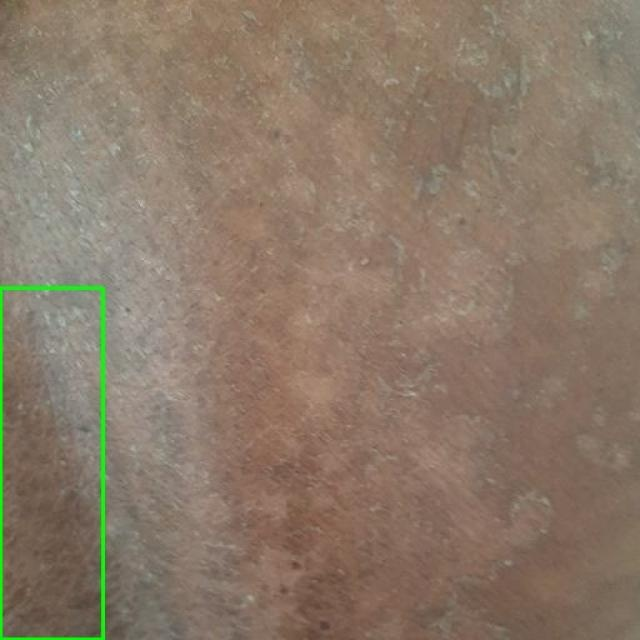Seborrheic Dermatitis: (0, 288, 102, 639)
